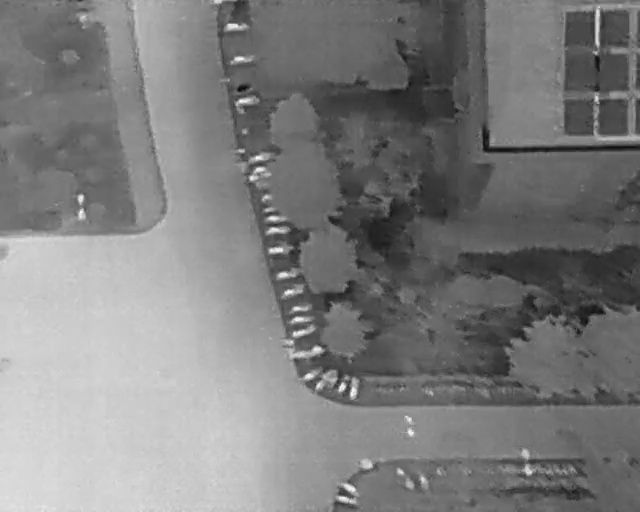Bicycle: (287, 344, 326, 362), (289, 321, 319, 342), (337, 478, 364, 501), (333, 370, 353, 396), (278, 282, 308, 299), (266, 241, 296, 256), (228, 50, 257, 65), (301, 363, 323, 381), (332, 494, 359, 508), (348, 374, 362, 400), (274, 267, 300, 280), (224, 21, 251, 32), (265, 225, 291, 235), (288, 314, 313, 324), (235, 96, 261, 105), (264, 213, 290, 222), (288, 305, 311, 313)
Person: (405, 425, 414, 440), (404, 414, 413, 427)
